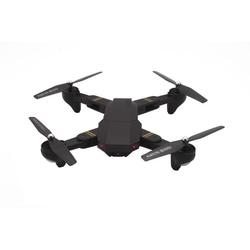drone: (27, 70, 225, 174)
